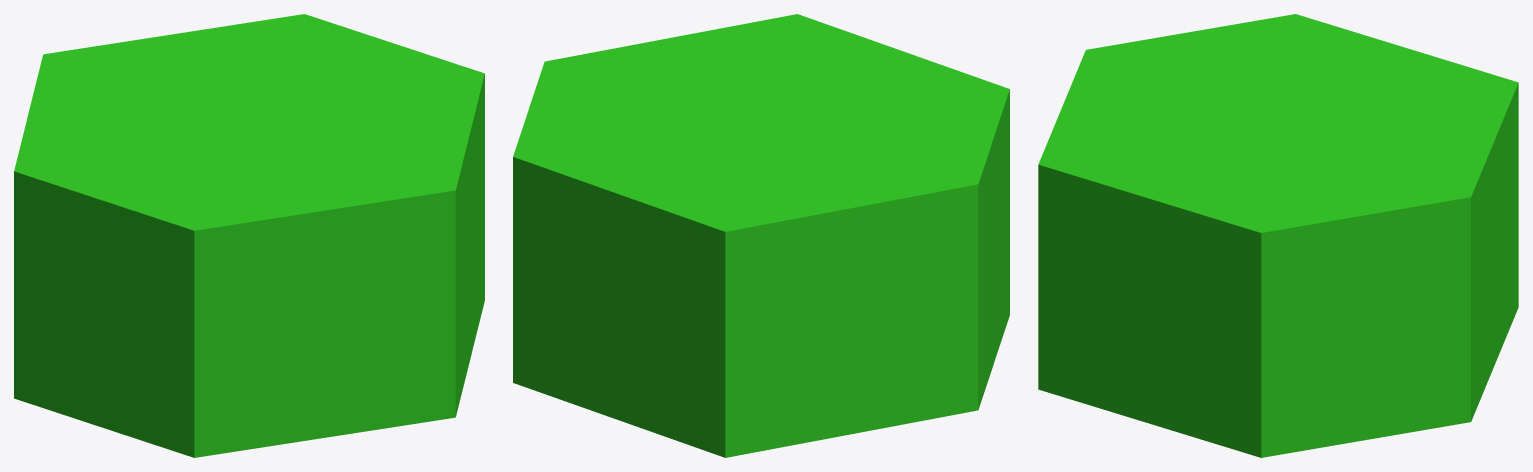
File: NormalContent.fbx
The picture shows the model from 3 angles, left to right: view 1: azimuth 30°, elevation 25°; view 2: azimuth 150°, elevation 25°; view 3: azimuth 270°, elevation 25°; orthographic projection.
Parts seen in each view (by area): view 1: Model; view 2: Model; view 3: Model.
Part boxes in pixels (<box>): Model: <box>14,14,484,457</box>; Model: <box>513,14,1009,457</box>; Model: <box>1038,14,1518,457</box>.
Size of what is drawn, in the model's own units: 0.6433 by 0.308 by 0.596.
